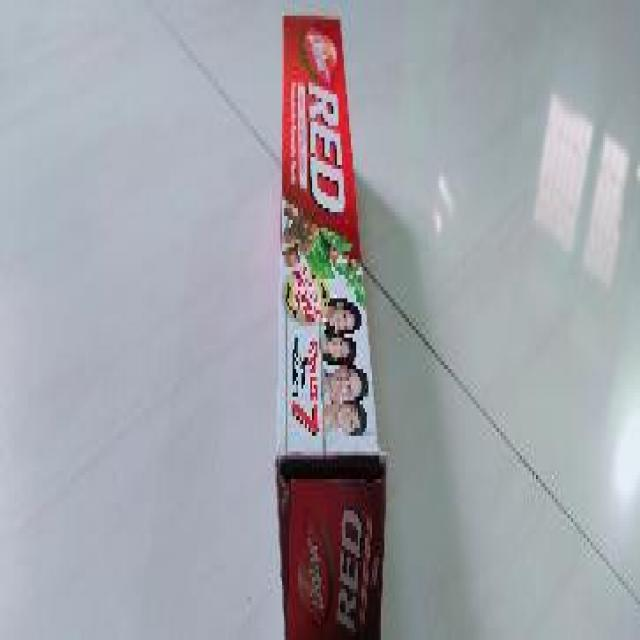tooth paste: (271, 17, 381, 638)
